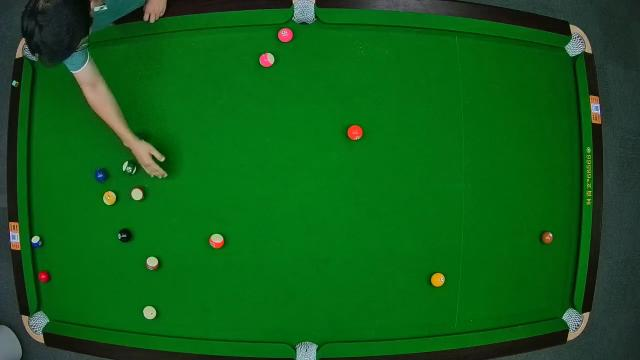bag2: (292, 1, 316, 24)
bag3: (568, 34, 588, 58)
bag4: (28, 313, 48, 333)
bag5: (294, 340, 318, 360)
bag6: (564, 310, 584, 332)
ball0: (142, 304, 158, 320)
ball1: (430, 272, 446, 288)
ball10: (30, 234, 44, 248)
ball11: (131, 186, 147, 202)
ball12: (260, 52, 276, 68)
ball13: (210, 234, 226, 250)
ball14: (122, 160, 138, 176)
ball15: (146, 256, 160, 272)
ball2: (95, 166, 109, 182)
ball3: (38, 270, 51, 284)
ball4: (278, 28, 294, 42)
ball5: (348, 124, 364, 140)
ball7: (542, 230, 554, 244)
ball8: (118, 228, 134, 244)
ball9: (104, 190, 116, 206)
